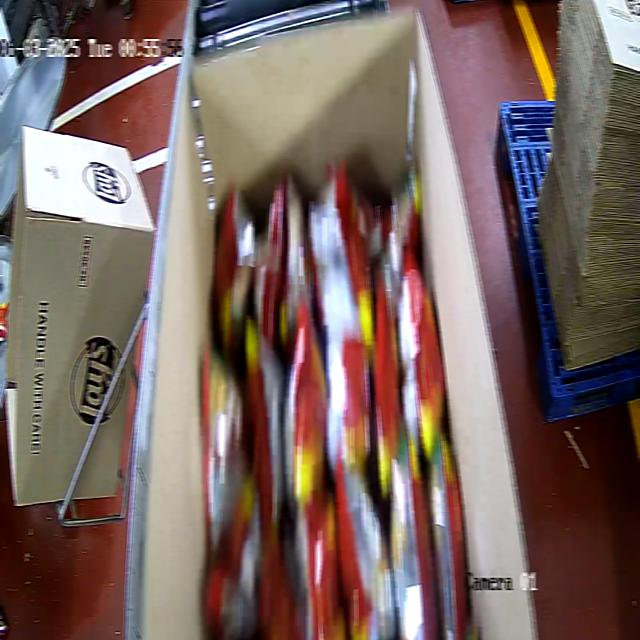MASALA: (199, 160, 471, 638)
